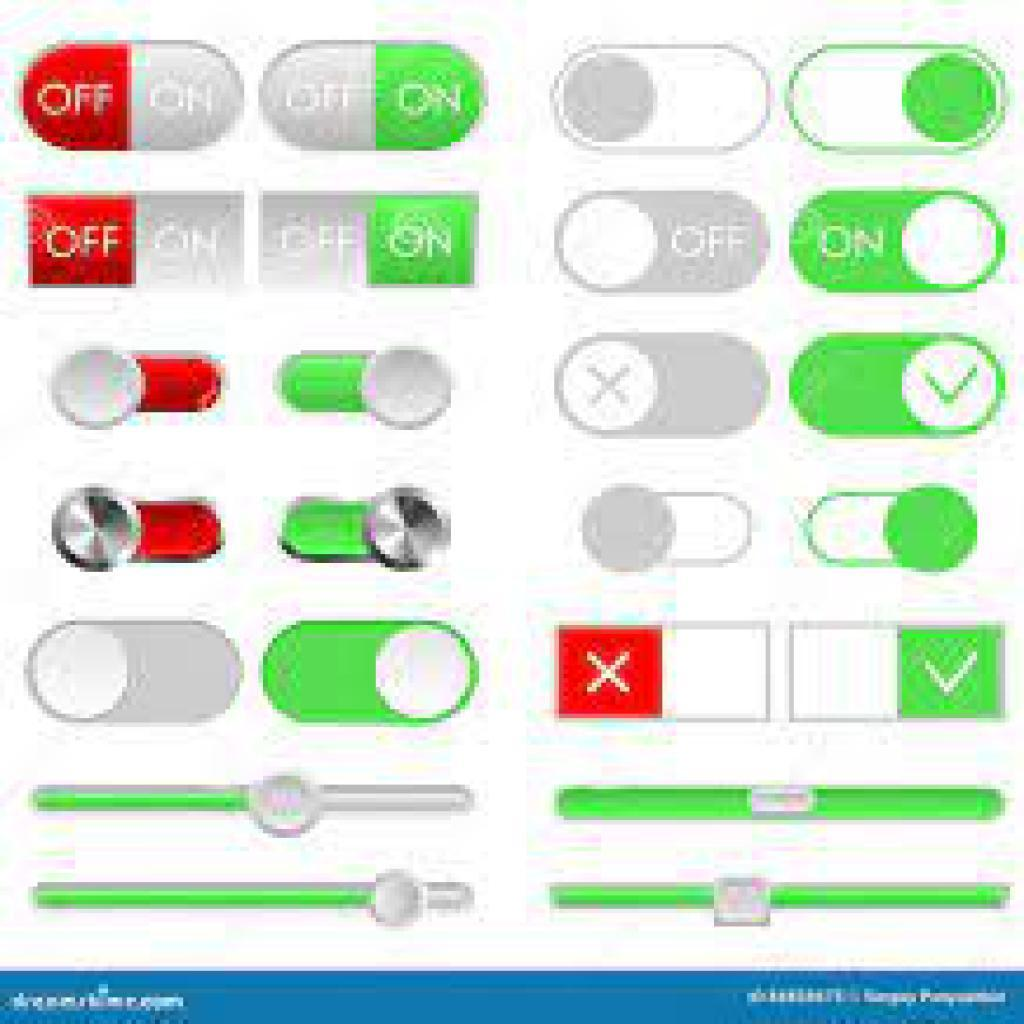slider: (22, 863, 482, 941), (37, 761, 484, 840), (547, 867, 1021, 934), (545, 774, 1017, 838)
switch: (259, 609, 484, 732), (19, 38, 248, 152), (550, 43, 773, 157), (258, 40, 487, 150), (15, 614, 239, 726), (787, 46, 1010, 151), (555, 334, 772, 441), (791, 189, 1007, 294), (790, 332, 1006, 437), (559, 192, 772, 292), (29, 197, 244, 295), (261, 195, 478, 292), (793, 623, 1002, 722), (554, 627, 769, 720), (581, 483, 756, 582), (801, 483, 985, 575), (49, 345, 230, 435), (273, 345, 451, 436), (52, 485, 227, 575), (278, 489, 453, 574)
